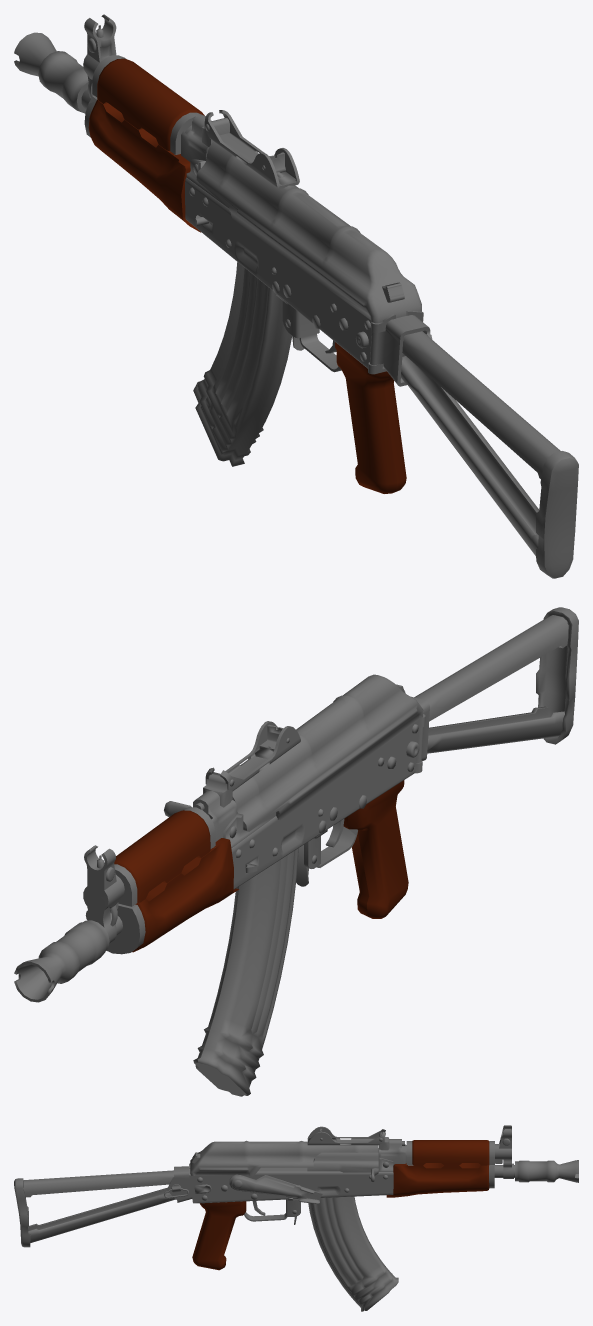
File: aks74u_lod.glb
3 views of the same model, one above another, from view 1: azimuth 30°, elevation 25°; view 2: azimuth 150°, elevation 25°; view 3: azimuth 270°, elevation 25° (orthographic). The views are drawn at different scales.
Parts seen in each view (by area): view 1: aks74u_body, mag; view 2: aks74u_body, mag; view 3: aks74u_body, mag, charge.
Boxes of the visible parts, box(x1,y1,x2,y2) form: aks74u_body: box(14, 14, 578, 578); mag: box(193, 262, 292, 466); aks74u_body: box(14, 607, 578, 1002); mag: box(193, 848, 298, 1096); aks74u_body: box(14, 1125, 578, 1270); mag: box(308, 1196, 398, 1311); charge: box(307, 1152, 378, 1182).
Bounding box in the file's own units: 0.0733 × 0.2612 × 0.7296.
